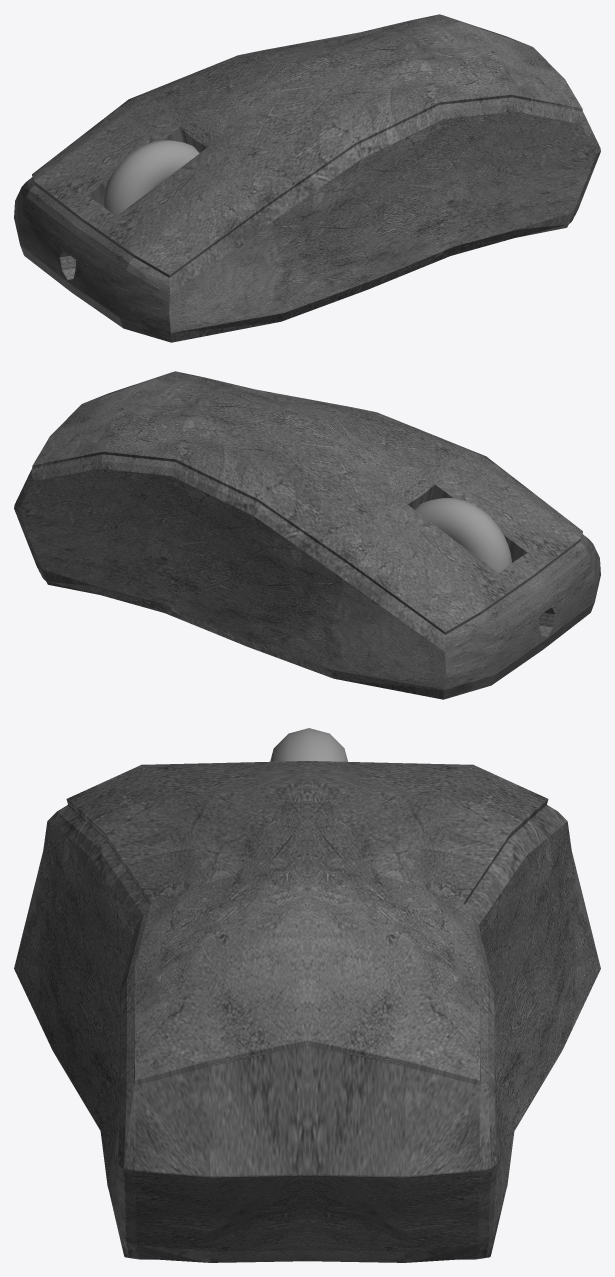
File: Mouse.fbx
3 renders of one model, top to bottom at view 1: azimuth 30°, elevation 25°; view 2: azimuth 150°, elevation 25°; view 3: azimuth 270°, elevation 25°, orthographic. The views are drawn at different scales.
Visible parts, largest first — view 1: Box002, Torus001; view 2: Box002, Torus001; view 3: Box002, Torus001.
Part boxes in pixels (x1,y1,x2,y2): Box002: (14,14,600,342); Torus001: (102,140,199,216); Box002: (14,371,600,699); Torus001: (415,498,511,573); Box002: (14,761,600,1262); Torus001: (270,728,347,761).
Size of the model in its own units: 284 by 100 by 172.
Materials: 2 (1 with a texture image).
